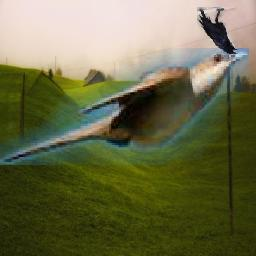Crow: (198, 8, 239, 55)
Cuckoo: (1, 49, 250, 166)
